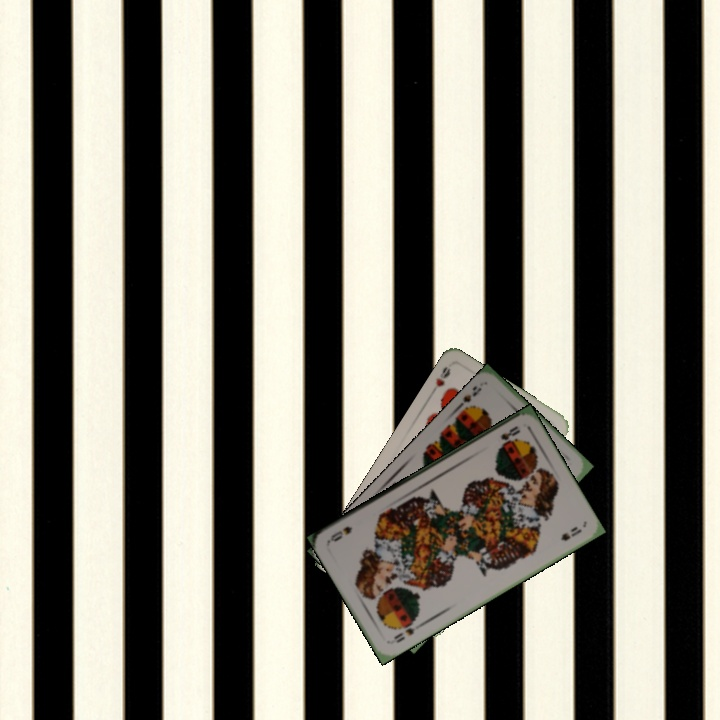H9: (431, 362, 453, 389)
S9: (452, 382, 484, 416)
SO: (497, 422, 523, 448), (390, 623, 417, 645)
